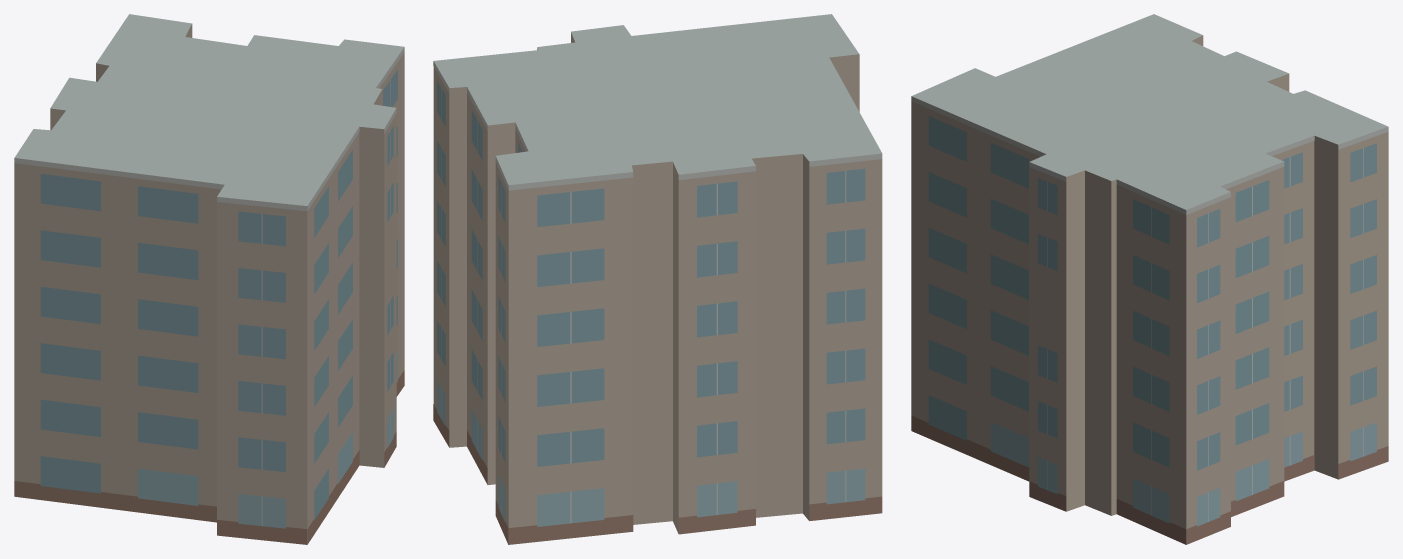
File: survey-upis-32567134.glb
The picture shows the model from 3 angles, left to right: view 1: azimuth 30°, elevation 25°; view 2: azimuth 150°, elevation 25°; view 3: azimuth 270°, elevation 25°; orthographic projection. The views are drawn at different scales.
Parts seen in each view (by area): view 1: survey-upis-32567134.tmp; view 2: survey-upis-32567134.tmp; view 3: survey-upis-32567134.tmp.
Boxes of the visible parts, box(x1,y1,x2,y2) form: survey-upis-32567134.tmp: box(14, 14, 404, 544); survey-upis-32567134.tmp: box(433, 14, 882, 544); survey-upis-32567134.tmp: box(911, 14, 1388, 544).
Bounding box in the file's own units: 20.23 × 16.1 × 20.8.
